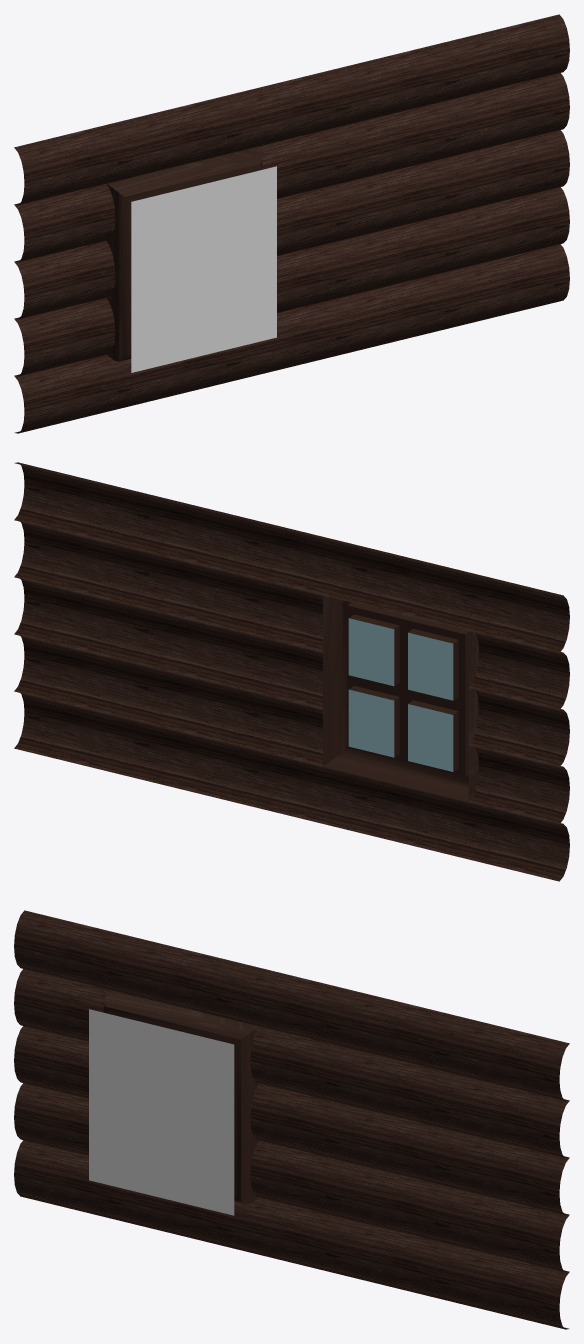
The model's file is LogHouse.fbx.
3 views of the same model, one above another, from view 1: azimuth 30°, elevation 25°; view 2: azimuth 150°, elevation 25°; view 3: azimuth 330°, elevation 25° (orthographic).
Parts seen in each view (by area): view 1: Cylinder, Plane; view 2: Cylinder, Cylinder.001; view 3: Cylinder, Plane.
Part boxes in pixels (x1,y1,x2,y2): Cylinder: [14, 14, 569, 433]; Plane: [131, 166, 276, 372]; Cylinder: [14, 462, 569, 881]; Cylinder.001: [348, 618, 453, 771]; Cylinder: [14, 910, 569, 1329]; Plane: [89, 1009, 234, 1215].
Size of the model in its own units: 1500 by 750 by 127.
Materials: 2 (2 with a texture image).
